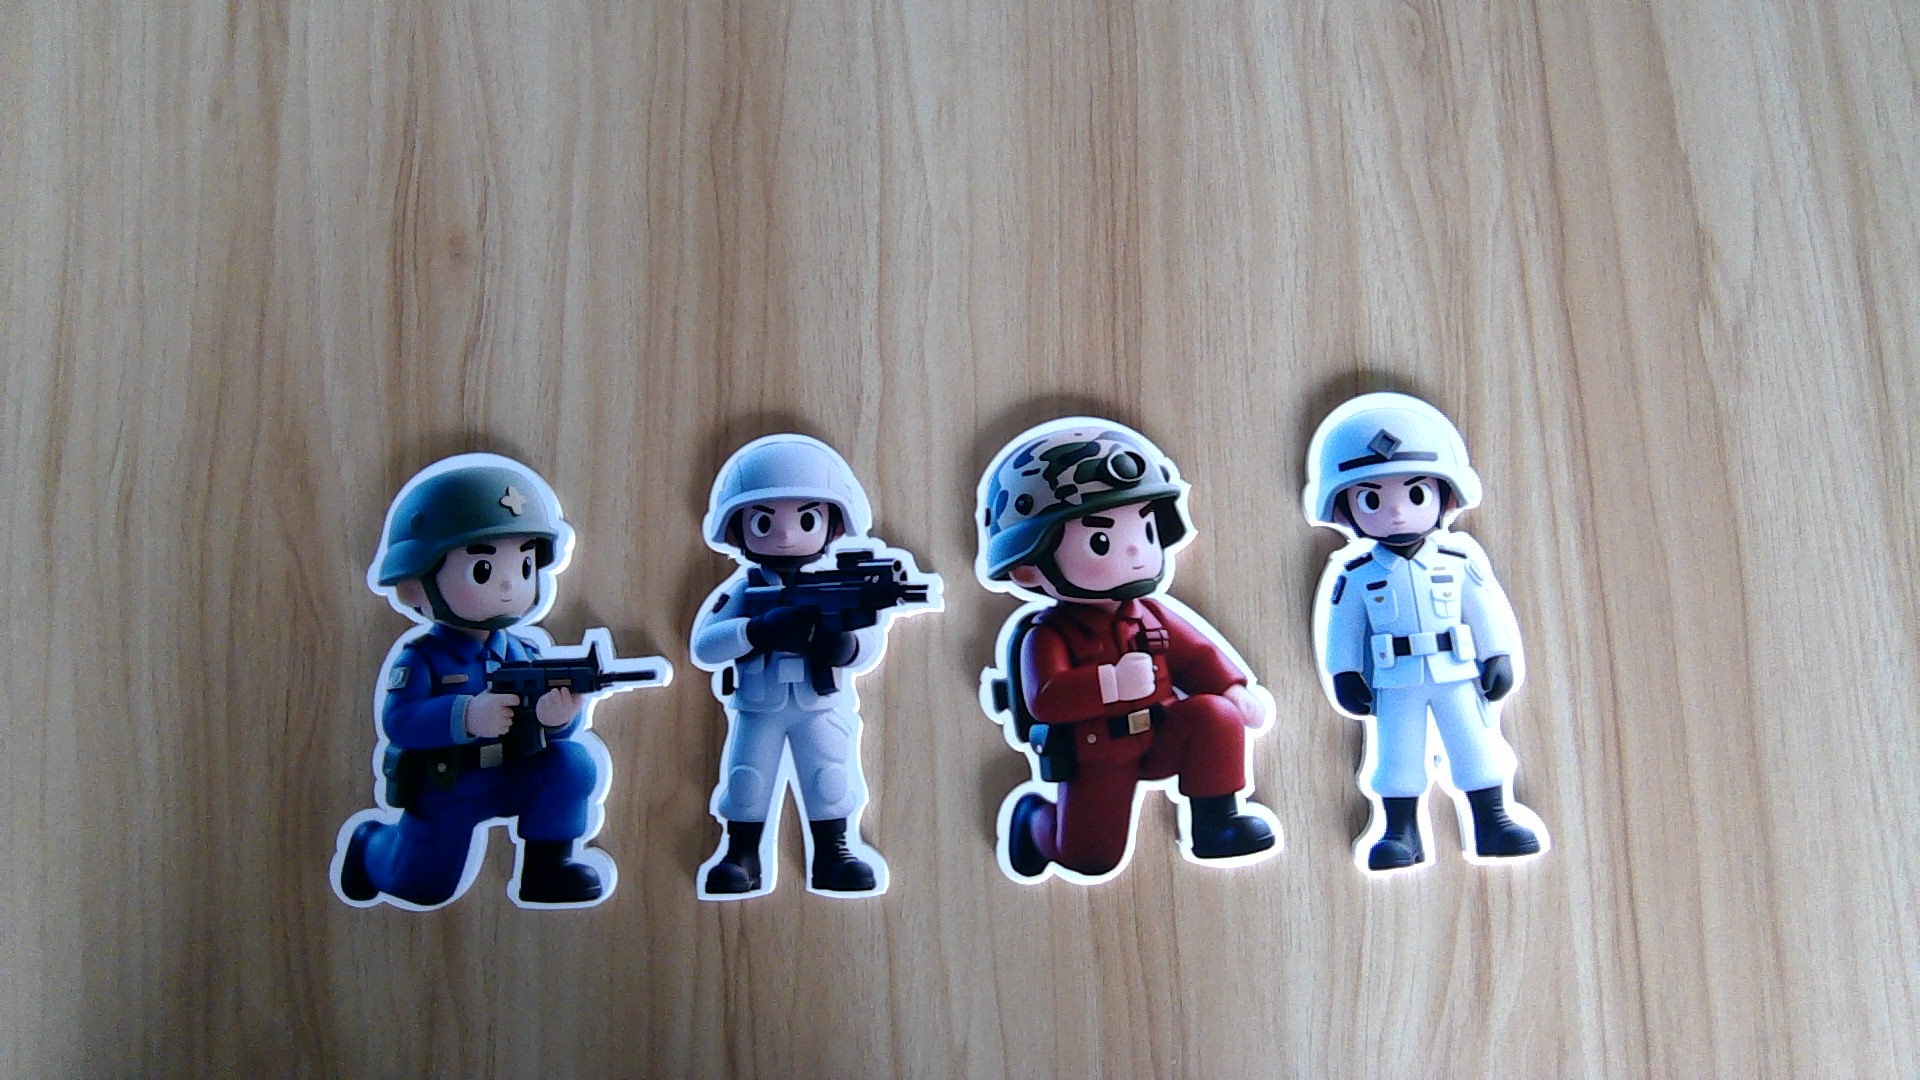人质: (686, 564, 944, 903), (1304, 537, 1559, 876)
敌人1: (975, 603, 1288, 887)
敌人2: (323, 626, 674, 918)
